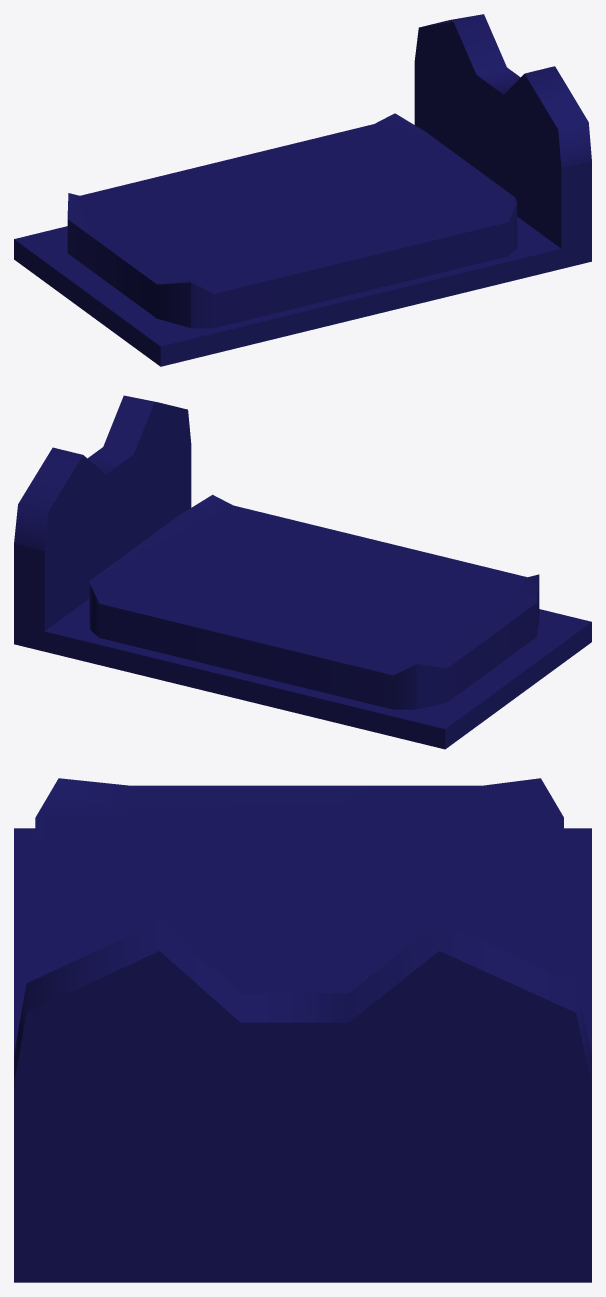
The model's file is LargeBed.obj.
3 views of the same model, one above another, from view 1: azimuth 30°, elevation 25°; view 2: azimuth 150°, elevation 25°; view 3: azimuth 270°, elevation 25° (orthographic). The views are drawn at different scales.
Visible parts, largest first — view 1: group1 pCube6, pCube7 group1; view 2: group1 pCube6, pCube7 group1; view 3: pCube7 group1, group1 pCube6.
Part boxes in pixels (x1,y1,x2,y2): group1 pCube6: [67, 113, 517, 328]; pCube7 group1: [14, 14, 591, 366]; group1 pCube6: [89, 494, 539, 709]; pCube7 group1: [14, 395, 591, 749]; pCube7 group1: [14, 828, 591, 1282]; group1 pCube6: [35, 778, 563, 993].
Size of the model in its own units: 22.24 by 8.3 by 13.11.
